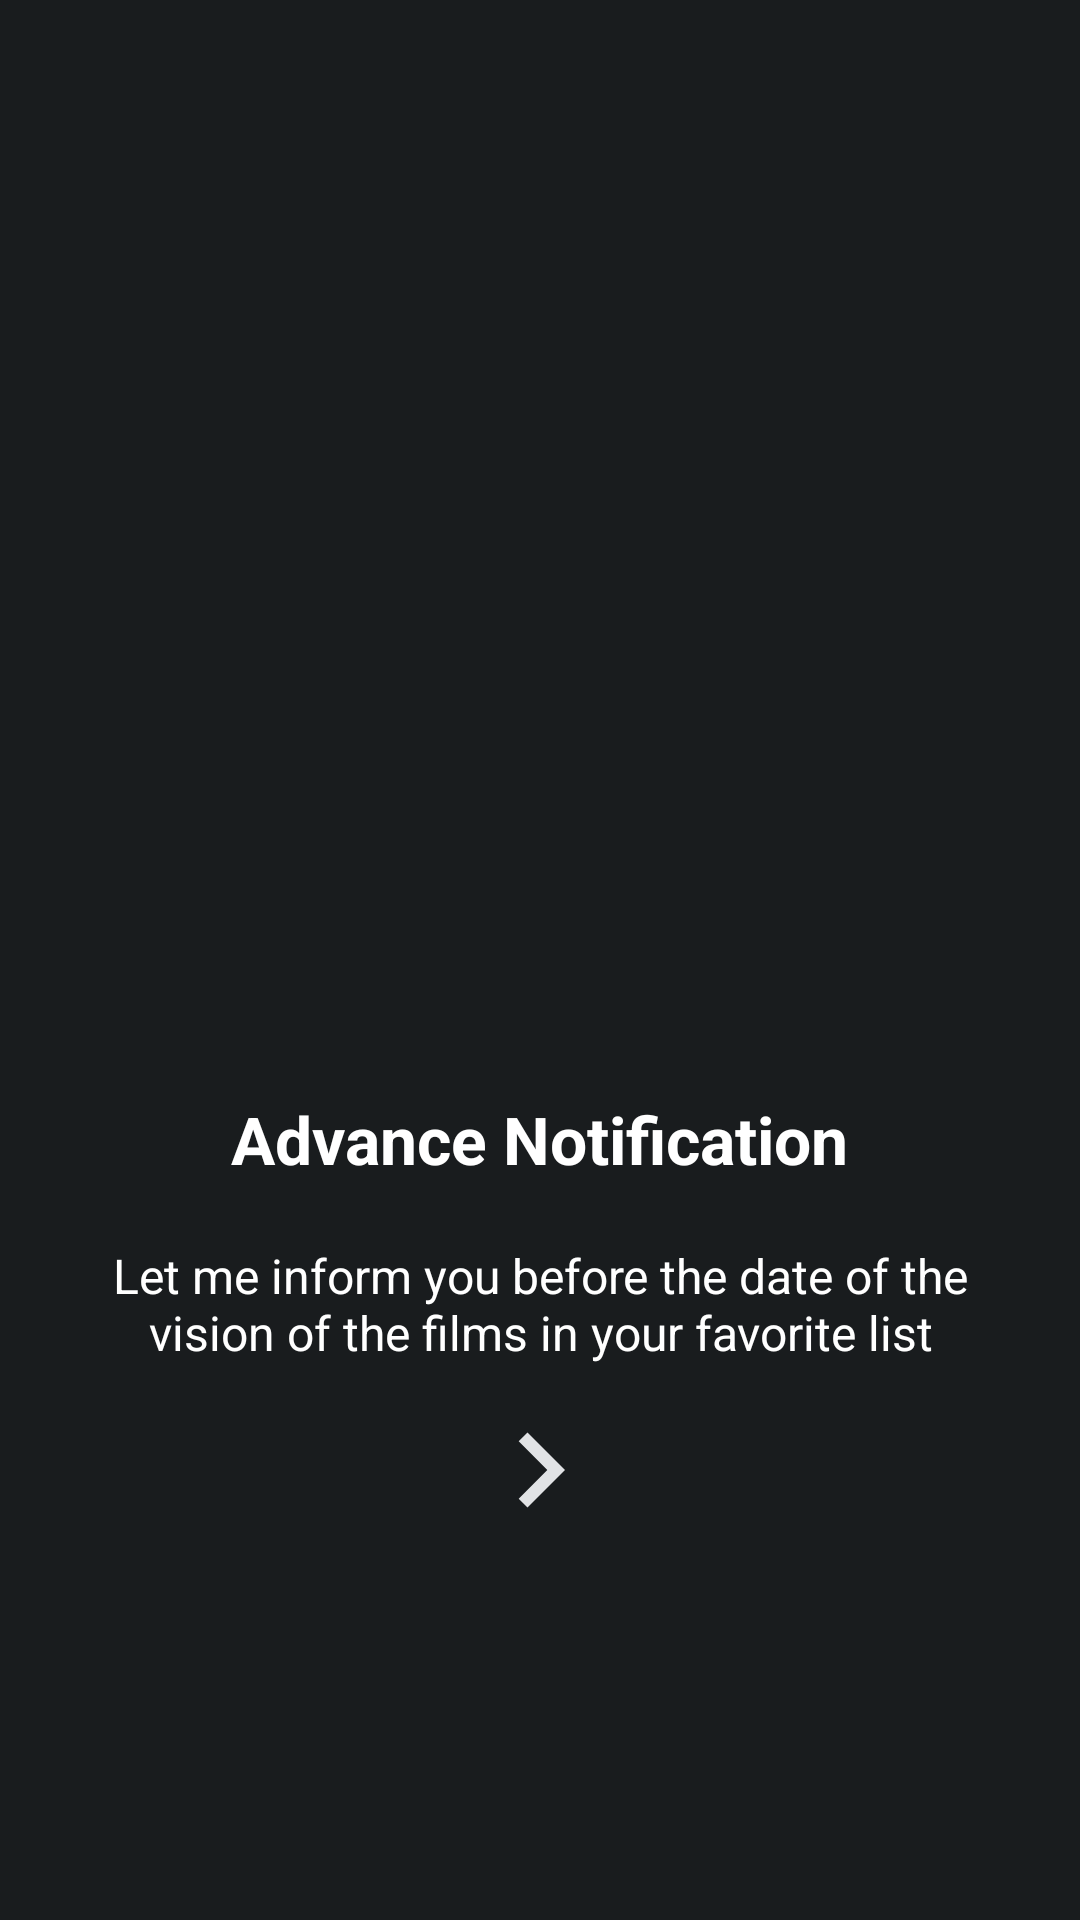

Where icons sit on this 1080*1920 app screen, as (x1, y1, x2, y2):
navigate next: (519, 1432, 565, 1508)
